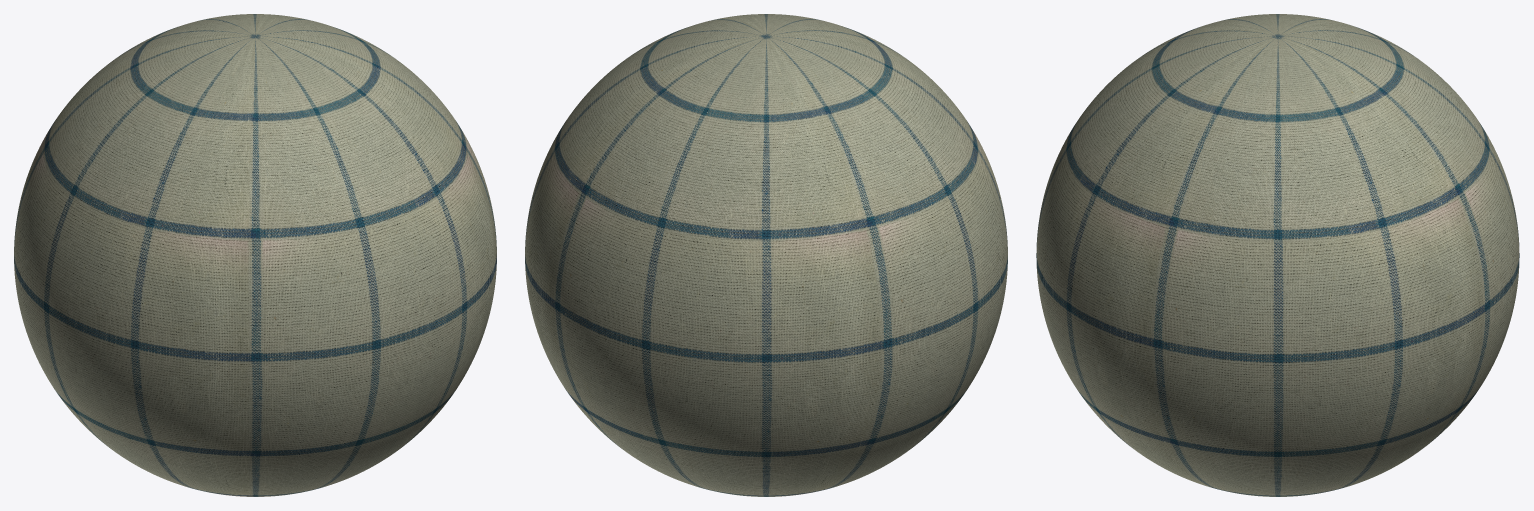
File: fabric_pattern_05_2k.gltf
The picture shows the model from 3 angles, left to right: view 1: azimuth 30°, elevation 25°; view 2: azimuth 150°, elevation 25°; view 3: azimuth 270°, elevation 25°; orthographic projection.
Parts seen in each view (by area): view 1: sphere_gltf; view 2: sphere_gltf; view 3: sphere_gltf.
Part boxes in pixels (bbox=[...]): sphere_gltf: bbox=[14, 14, 496, 496]; sphere_gltf: bbox=[525, 14, 1007, 496]; sphere_gltf: bbox=[1036, 14, 1519, 496].
Size of the model in its own units: 0.5 by 0.5 by 0.5.
1 material, 1 textured.
